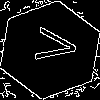V: (25, 25, 78, 65)
